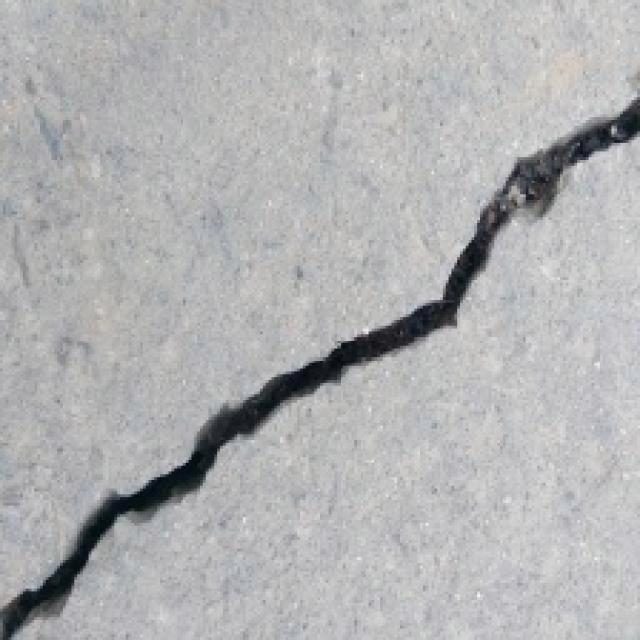SurfaceCrack: (0, 74, 636, 638)
